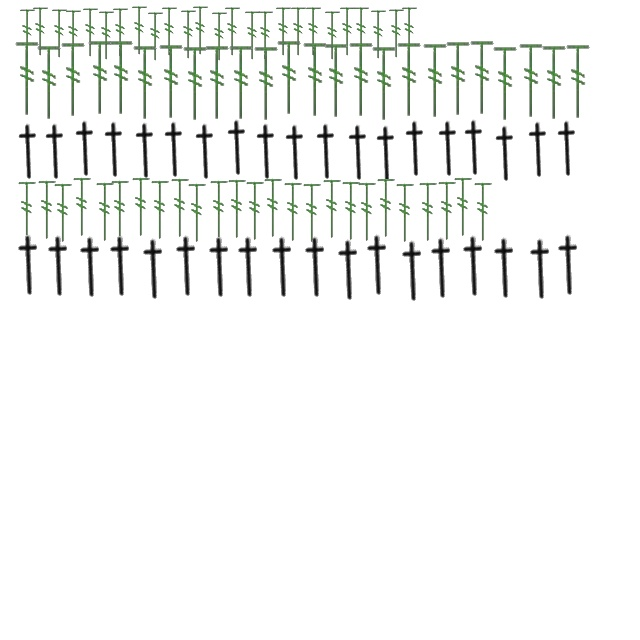enseble_chain: (11, 234, 47, 296), (41, 235, 77, 297), (73, 236, 109, 298), (103, 235, 139, 297), (136, 238, 172, 300), (169, 235, 205, 297), (202, 236, 238, 298), (231, 236, 267, 298), (265, 236, 301, 298), (298, 236, 334, 298), (331, 239, 367, 301), (360, 234, 396, 296), (395, 240, 431, 302), (424, 237, 460, 299), (456, 235, 492, 297), (487, 237, 523, 299), (523, 238, 559, 300), (551, 234, 587, 296), (342, 124, 376, 182), (432, 120, 466, 178), (12, 124, 46, 180), (98, 122, 132, 178), (158, 122, 192, 178), (250, 124, 284, 180), (310, 124, 344, 180), (370, 126, 404, 182), (458, 120, 492, 176), (522, 122, 556, 178), (70, 120, 102, 178), (130, 122, 162, 180), (280, 124, 312, 182), (400, 120, 432, 178), (552, 120, 584, 178), (40, 124, 72, 180), (190, 124, 222, 180), (222, 120, 254, 176), (490, 126, 522, 182)
fan: (322, 42, 352, 120), (444, 40, 474, 118), (540, 44, 570, 122), (86, 40, 116, 116), (252, 46, 282, 122), (370, 46, 400, 122), (468, 40, 498, 116), (564, 44, 594, 120), (14, 40, 42, 118), (36, 44, 64, 122), (132, 44, 160, 122), (204, 44, 232, 122), (228, 44, 256, 122), (422, 42, 450, 120), (518, 42, 546, 120), (60, 42, 88, 118), (108, 40, 136, 116), (158, 44, 186, 120), (182, 46, 210, 122), (276, 40, 304, 116), (302, 42, 330, 118), (348, 42, 376, 118), (396, 42, 424, 118), (492, 46, 520, 122), (16, 179, 38, 243), (36, 178, 58, 242), (52, 181, 74, 245), (71, 175, 93, 239), (94, 180, 116, 244), (109, 178, 131, 242), (130, 175, 152, 239), (149, 178, 171, 242), (169, 176, 191, 240), (186, 181, 208, 245), (208, 178, 230, 242), (226, 177, 248, 241), (244, 179, 266, 243), (262, 176, 284, 240), (282, 180, 304, 244), (301, 181, 323, 245), (321, 177, 343, 241), (340, 179, 362, 243), (356, 180, 378, 244), (375, 176, 397, 240), (394, 181, 416, 245), (417, 180, 439, 244), (436, 179, 458, 243), (452, 175, 474, 239), (472, 180, 494, 244), (64, 8, 84, 62), (130, 4, 150, 58), (146, 10, 166, 64), (210, 10, 230, 64), (18, 8, 38, 60), (50, 8, 70, 60), (160, 6, 180, 58), (256, 10, 276, 62), (274, 6, 294, 58), (304, 6, 324, 58), (338, 6, 358, 58), (352, 6, 372, 58), (400, 6, 420, 58), (82, 6, 100, 60), (112, 6, 130, 60), (180, 8, 198, 62), (192, 4, 210, 58), (370, 8, 388, 62), (32, 6, 50, 58), (98, 10, 116, 62), (224, 6, 242, 58), (244, 10, 262, 62), (290, 6, 308, 58), (324, 10, 342, 62), (388, 8, 406, 60)
